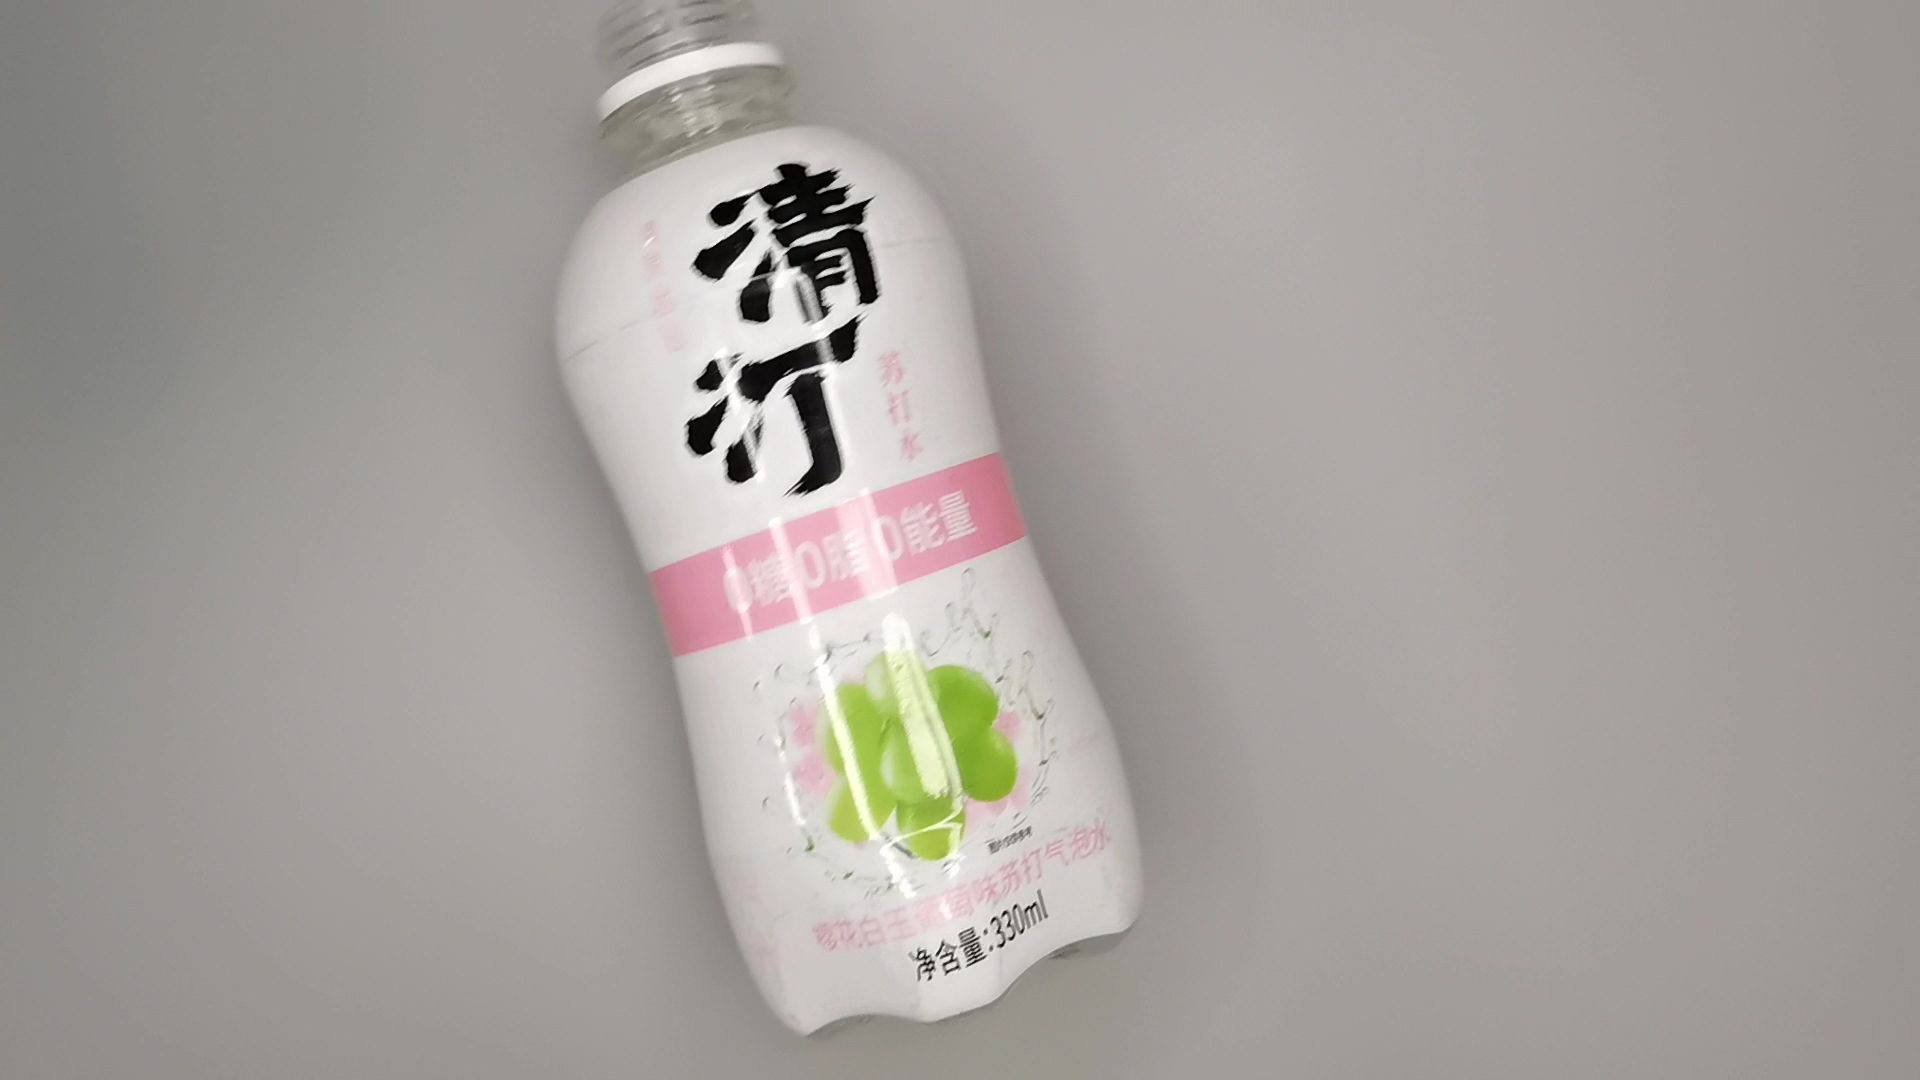bottle: (553, 1, 1156, 1036)
